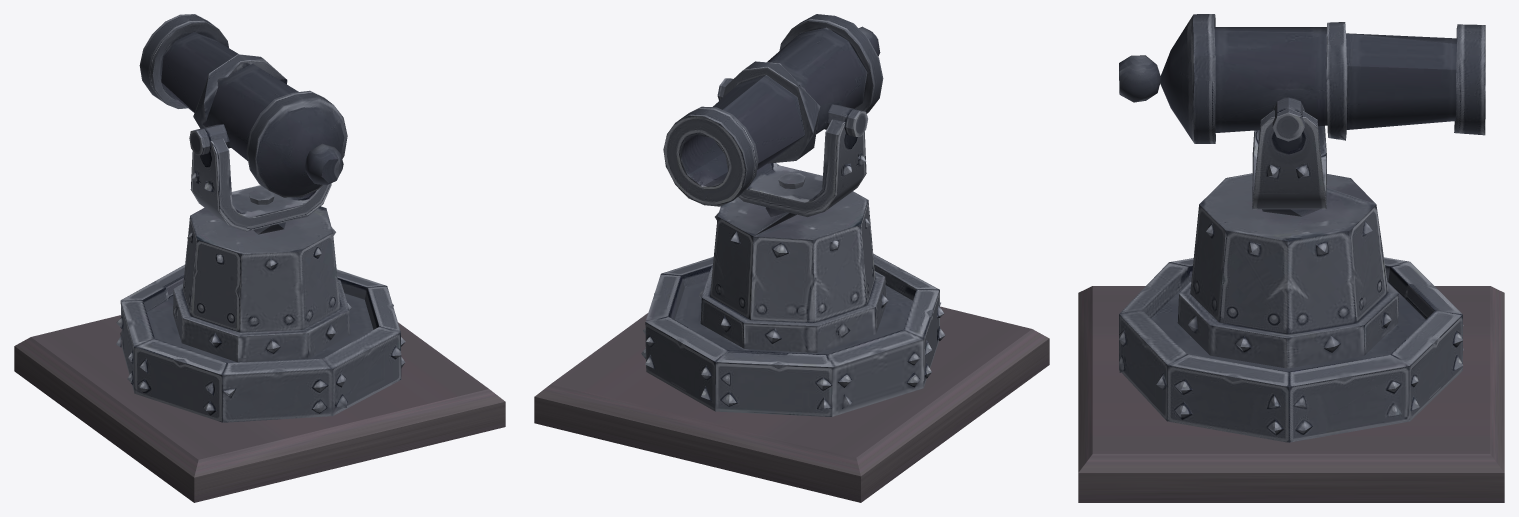
The model's file is cannon.3-final.glb.
3 renders of one model, left to right at view 1: azimuth 30°, elevation 25°; view 2: azimuth 150°, elevation 25°; view 3: azimuth 270°, elevation 25°, orthographic. The views are drawn at different scales.
Parts seen in each view (by area): view 1: mount, plate, barrel; view 2: mount, plate, barrel; view 3: mount, plate, barrel.
Part boxes in pixels (bbox=[...]): mount: bbox=[116, 124, 405, 422]; plate: bbox=[14, 315, 505, 502]; barrel: bbox=[139, 14, 347, 197]; mount: bbox=[641, 78, 945, 416]; plate: bbox=[534, 306, 1049, 502]; barrel: bbox=[663, 14, 883, 206]; mount: bbox=[1119, 97, 1463, 442]; plate: bbox=[1078, 286, 1504, 502]; barrel: bbox=[1119, 14, 1485, 143].
Bounding box in the file's own units: 0.9 × 0.9122 × 0.9.
2 materials, 2 textured.
